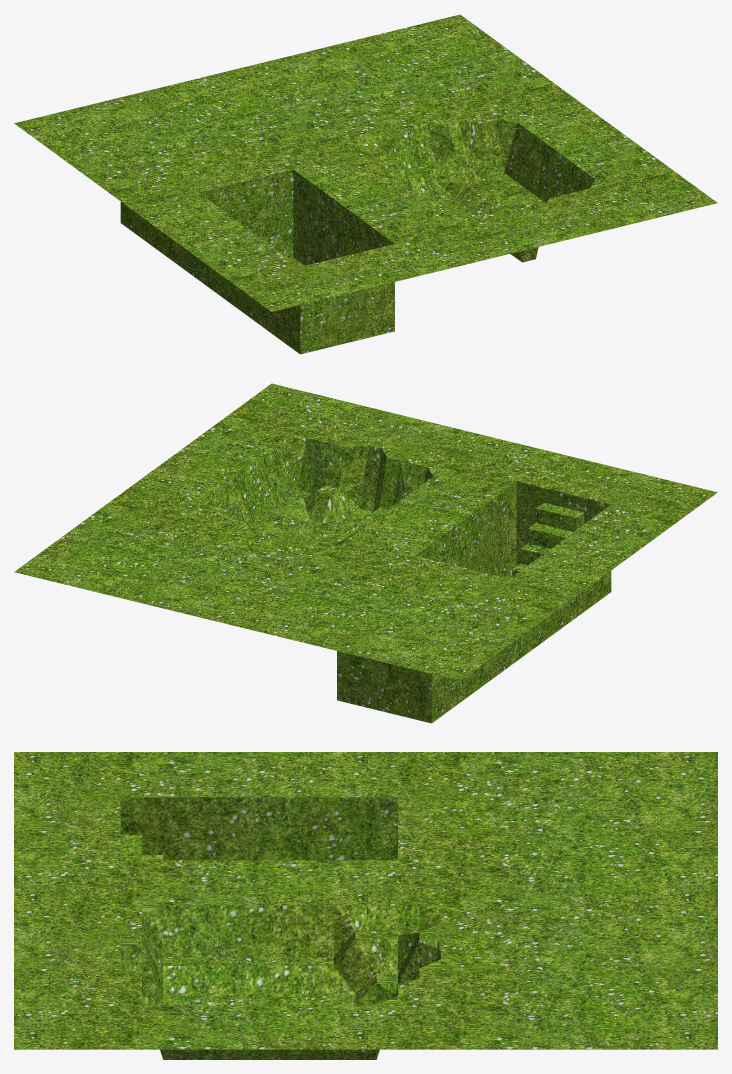
The model's file is water-demo-level.obj.
3 renders of one model, top to bottom at view 1: azimuth 30°, elevation 25°; view 2: azimuth 150°, elevation 25°; view 3: azimuth 270°, elevation 25°, orthographic. The views are drawn at different scales.
Visible parts, largest first — view 1: Plane; view 2: Plane; view 3: Plane.
Part boxes in pixels (<box>): Plane: <box>14,14,717,354</box>; Plane: <box>14,383,717,723</box>; Plane: <box>14,752,717,1059</box>.
Size of the model in its own units: 32 by 6 by 32.
